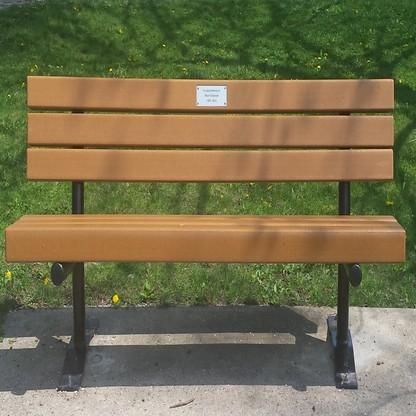obstacle: (5, 67, 403, 390)
